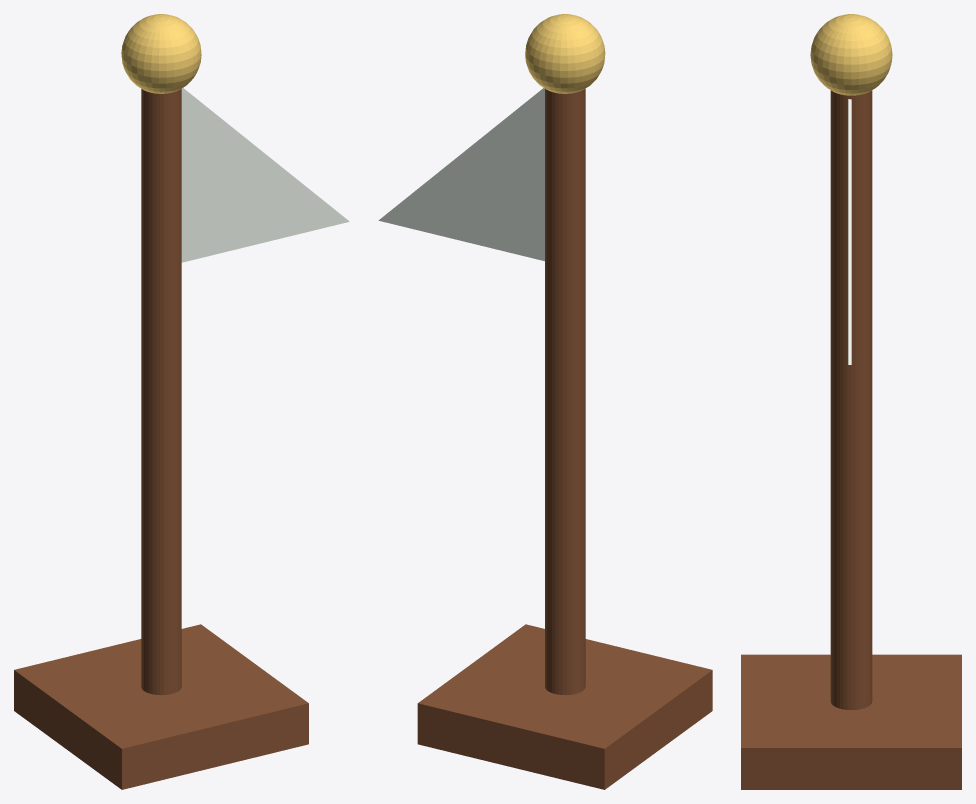
File: flag.glb
The picture shows the model from 3 angles, left to right: view 1: azimuth 30°, elevation 25°; view 2: azimuth 150°, elevation 25°; view 3: azimuth 270°, elevation 25°; orthographic projection. The views are drawn at different scales.
Visible parts, largest first — view 1: Cube, Cylinder, Plane, Sphere; view 2: Cube, Cylinder, Plane, Sphere; view 3: Cube, Cylinder, Sphere, Plane.
Part boxes in pixels (bbox=[...]): Cube: bbox=[14, 624, 308, 789]; Cylinder: bbox=[141, 89, 181, 695]; Plane: bbox=[181, 88, 349, 262]; Sphere: bbox=[121, 14, 201, 93]; Cube: bbox=[417, 624, 712, 789]; Cylinder: bbox=[545, 88, 585, 695]; Plane: bbox=[378, 88, 544, 261]; Sphere: bbox=[525, 14, 605, 93]; Cube: bbox=[741, 654, 961, 789]; Cylinder: bbox=[830, 90, 872, 710]; Sphere: bbox=[810, 14, 892, 95]; Plane: bbox=[848, 99, 851, 364].
Size of the model in its own units: 0.9 by 2.18 by 0.6.
Materials: 1 (1 with a texture image).
